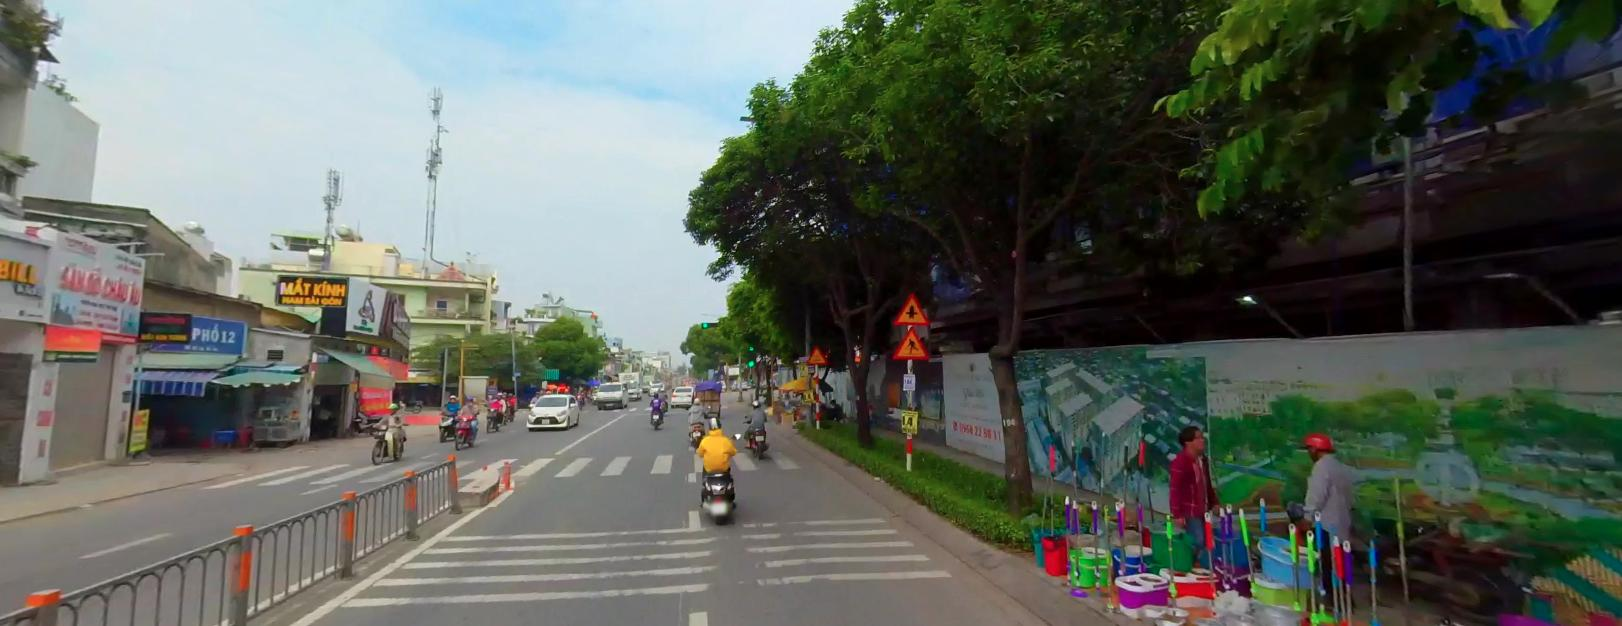Nguy hiem: (893, 290, 930, 323), (892, 325, 928, 357), (806, 342, 825, 362)
